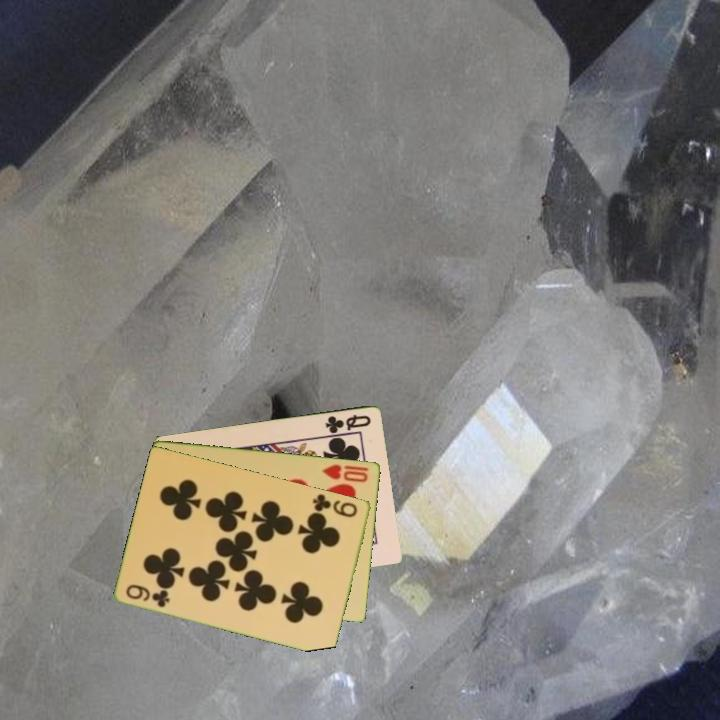10h: (319, 460, 371, 485)
9c: (309, 490, 361, 520), (123, 581, 173, 610)
Qc: (322, 410, 374, 436)
